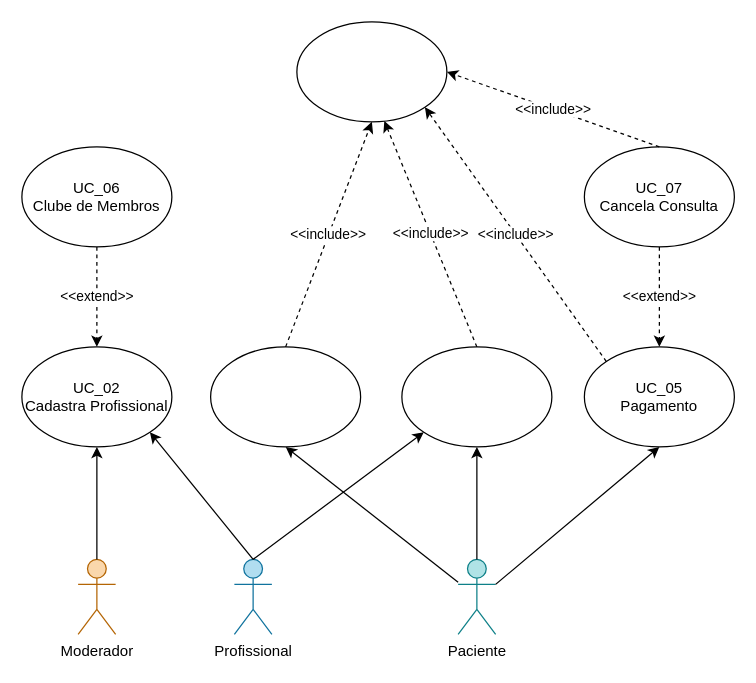
This 756x683 diagram has some shape labels left out. Here are the shapes that lost their labels. From the top down, the centre of each, then its label:
At (x=371, y=71): "UC_01 Login".
At (x=285, y=396): "UC_03 Agenda Consulta".
At (x=476, y=396): "UC_04 Visualiza Consulta".
